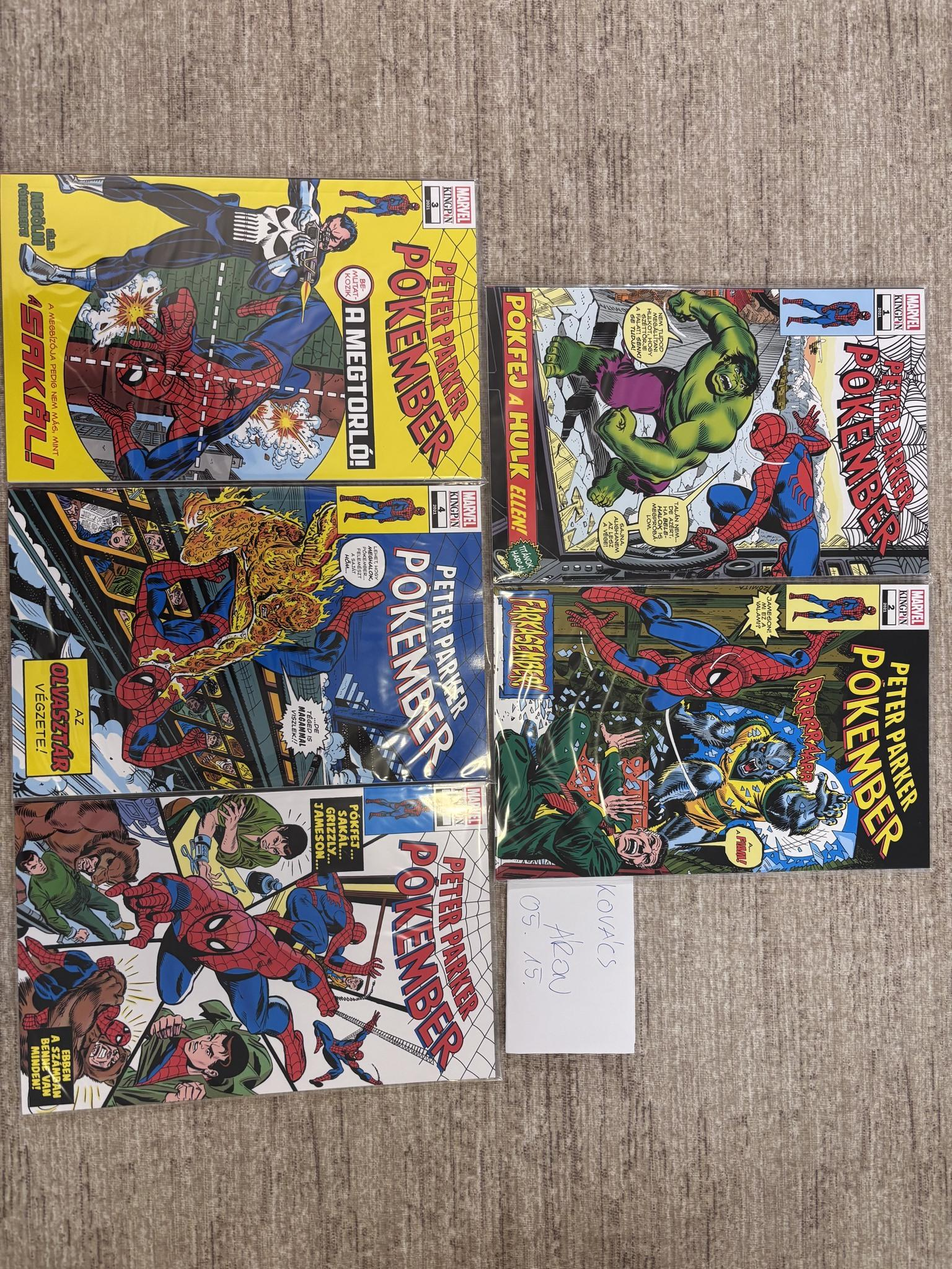comic: (8, 780, 499, 1113), (6, 476, 489, 798), (0, 175, 480, 483), (487, 575, 936, 880), (486, 282, 928, 584)
